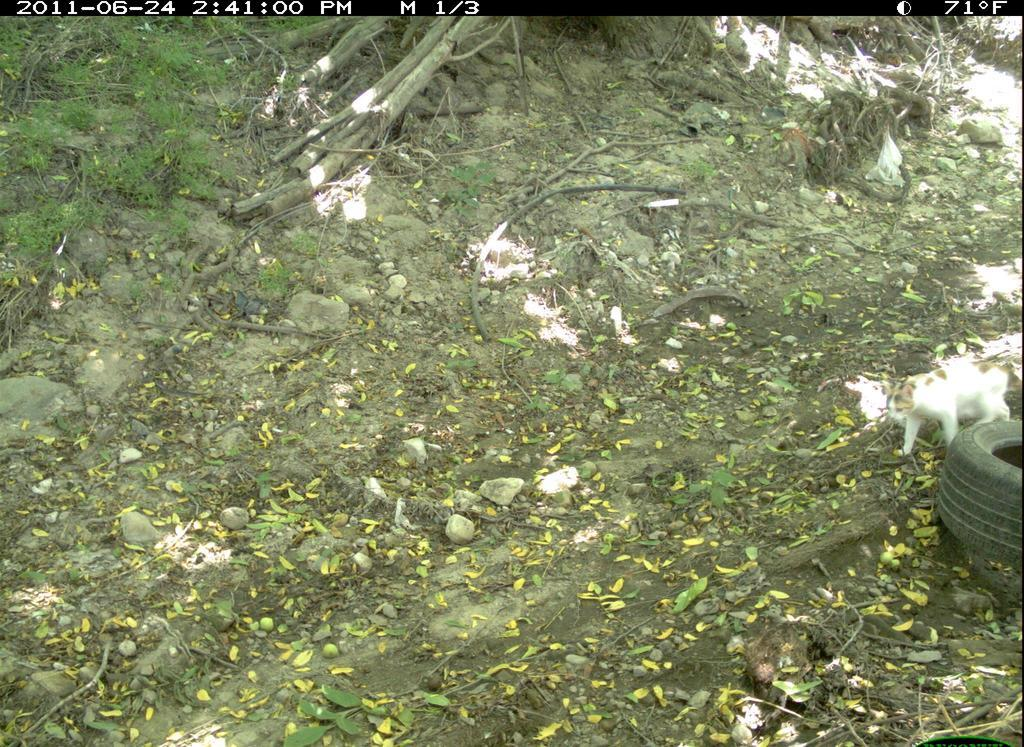cat: (882, 346, 1017, 460)
